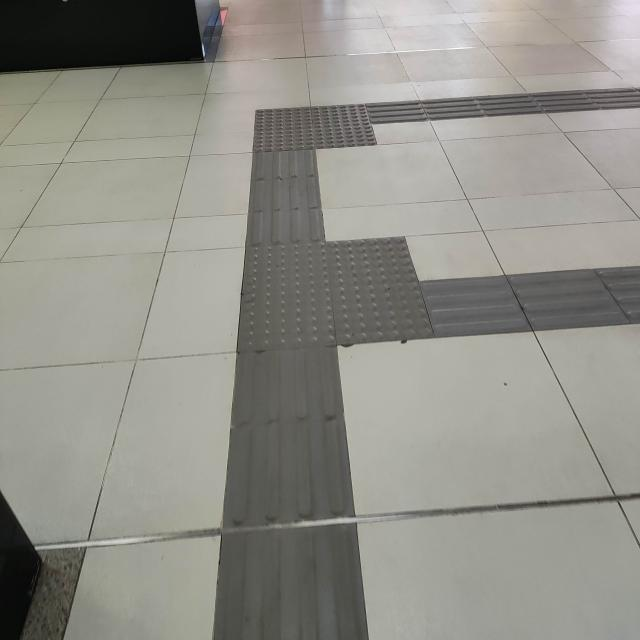kanan: (236, 85, 463, 158)
